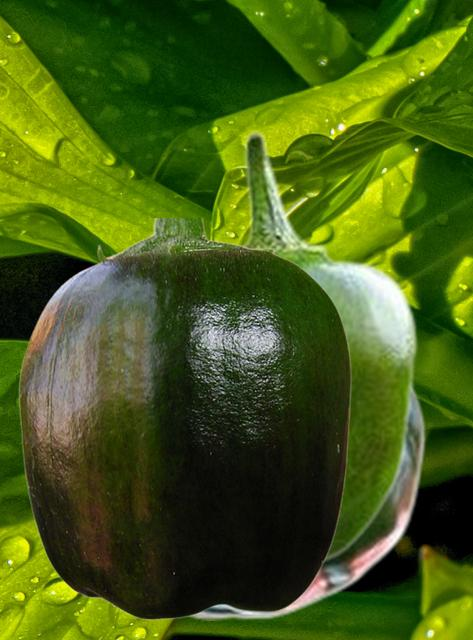bell_pepper: (18, 218, 351, 619), (229, 130, 418, 568), (183, 383, 425, 619)
